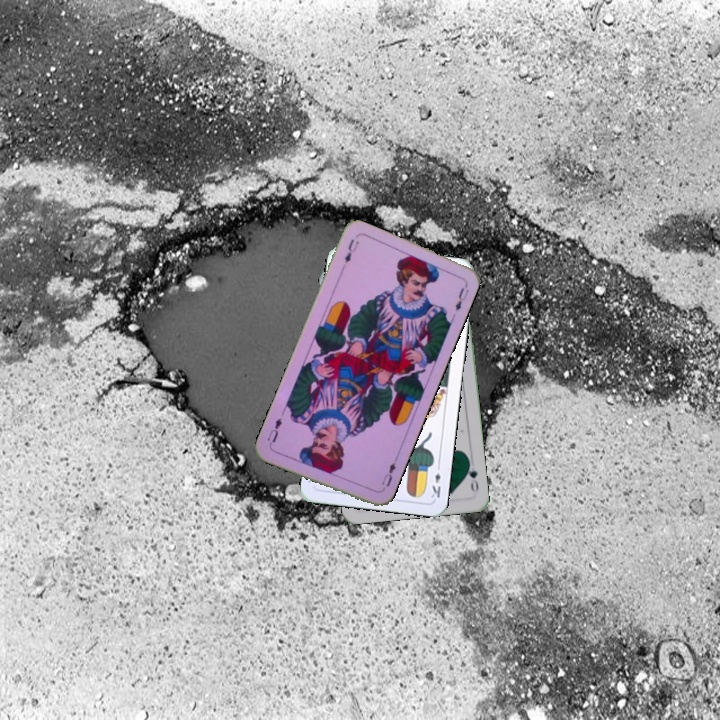EK: (427, 460, 443, 500)
EU: (337, 235, 361, 273), (377, 454, 400, 489)
GO: (462, 456, 481, 494)
